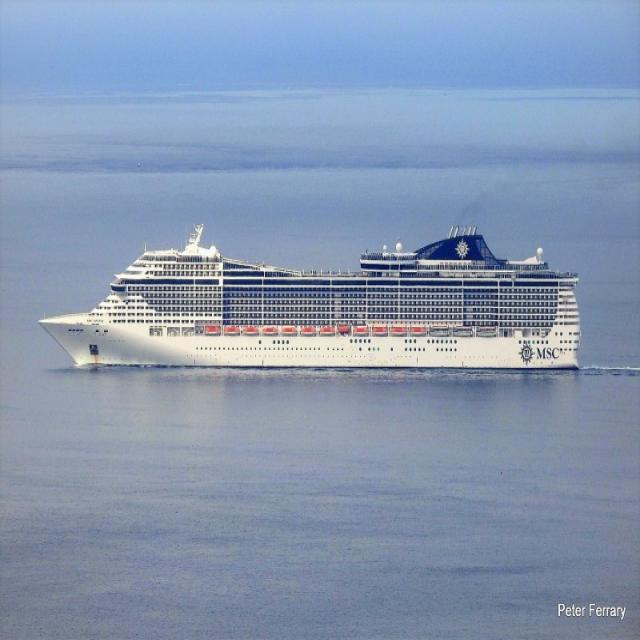cruises: (32, 214, 585, 382)
